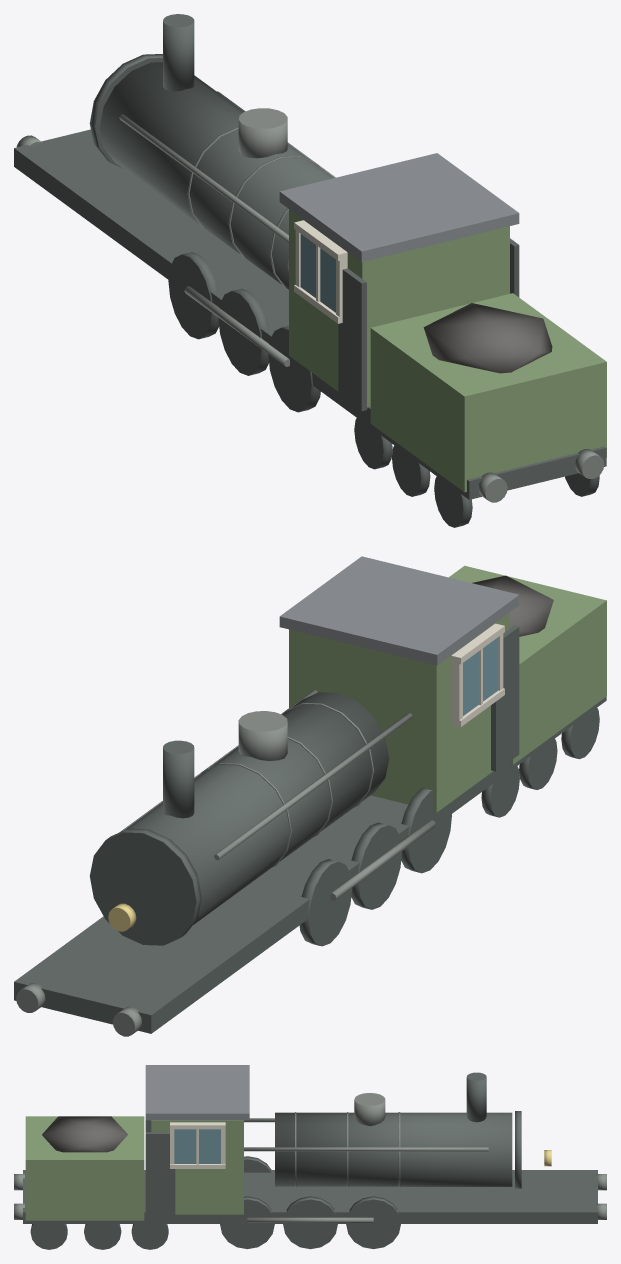
The model's file is tyne-j21_lod0.glb.
3 views of the same model, one above another, from view 1: azimuth 30°, elevation 25°; view 2: azimuth 150°, elevation 25°; view 3: azimuth 270°, elevation 25° (orthographic). The views are drawn at different scales.
Visible parts, largest first — view 1: RF_Tender, RF_Boiler, RF_Chassis, RF_CabRoof, RF_Cab, RF_TenderCoal, RF_CabDoor.001, RF_DrivingWheel.003, RF_DrivingWheel.002, RF_Chimney, RF_DrivingWheel.001, RF_Dome (+10 smaller); view 2: RF_Chassis, RF_Boiler, RF_Cab, RF_CabRoof, RF_Tender, RF_SmokeboxFront, RF_DrivingWheel.003, RF_CabDoor.001, RF_DrivingWheel.002, RF_DrivingWheel.001, RF_Chimney, RF_Dome (+11 smaller); view 3: RF_Boiler, RF_Chassis, RF_Tender, RF_CabRoof, RF_Cab, RF_TenderCoal, RF_CabDoor, RF_DrivingWheel, RF_DrivingWheel.005, RF_DrivingWheel.004, RF_Window, RF_SteamPipe (+10 smaller).
Boxes of the visible parts, left/top/right/bottom form: RF_Tender: left=370, top=293, right=606, bottom=492; RF_Boiler: left=99, top=62, right=334, bottom=289; RF_Chassis: left=14, top=129, right=606, bottom=499; RF_CabRoof: left=279, top=153, right=519, bottom=261; RF_Cab: left=289, top=209, right=509, bottom=408; RF_TenderCoal: left=423, top=303, right=552, bottom=373; RF_CabDoor.001: left=338, top=268, right=366, bottom=411; RF_DrivingWheel.003: left=168, top=252, right=219, bottom=339; RF_DrivingWheel.002: left=218, top=288, right=268, bottom=375; RF_Chimney: left=163, top=14, right=194, bottom=91; RF_DrivingWheel.001: left=268, top=326, right=320, bottom=412; RF_Dome: left=238, top=108, right=287, bottom=158; RF_Chassis: left=14, top=697, right=606, bottom=1033; RF_Boiler: left=125, top=692, right=389, bottom=924; RF_Cab: left=289, top=612, right=509, bottom=812; RF_CabRoof: left=279, top=556, right=519, bottom=665; RF_Tender: left=449, top=565, right=606, bottom=764; RF_SmokeboxFront: left=90, top=828, right=201, bottom=945; RF_DrivingWheel.003: left=299, top=859, right=352, bottom=946; RF_CabDoor.001: left=491, top=625, right=519, bottom=771; RF_DrivingWheel.002: left=351, top=822, right=401, bottom=909; RF_DrivingWheel.001: left=401, top=788, right=451, bottom=873; RF_Chimney: left=163, top=740, right=194, bottom=818; RF_Dome: left=238, top=711, right=287, bottom=760; RF_Boiler: left=275, top=1112, right=512, bottom=1186; RF_Chassis: left=23, top=1170, right=597, bottom=1223; RF_Tender: left=25, top=1116, right=144, bottom=1220; RF_CabRoof: left=145, top=1065, right=249, bottom=1120; RF_Cab: left=151, top=1120, right=243, bottom=1214; RF_TenderCoal: left=42, top=1116, right=127, bottom=1152; RF_CabDoor: left=145, top=1132, right=175, bottom=1214; RF_DrivingWheel: left=346, top=1196, right=400, bottom=1249; RF_DrivingWheel.005: left=283, top=1196, right=337, bottom=1249; RF_DrivingWheel.004: left=220, top=1196, right=274, bottom=1249; RF_Window: left=174, top=1129, right=220, bottom=1163; RF_SteamPipe: left=244, top=1147, right=488, bottom=1151.
Bounding box in the file's own units: 3.28 × 4.53 × 15.98.
